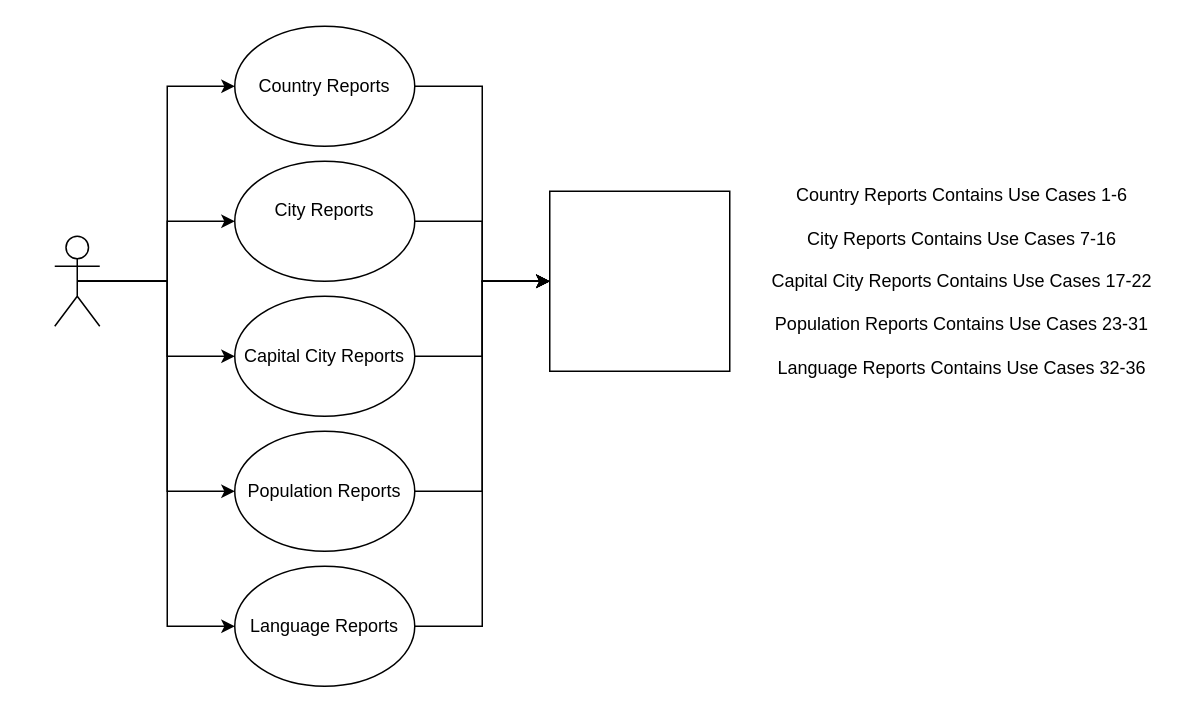
This 1191x713 diagram has some shape labels left out. Here are the shapes that lost their labels. From the top down, the centre of each, then its label:
the point at 76,280: Organisation
the point at 639,280: Database: world.sql (Three tables: City, Country, CountryLanguage)
